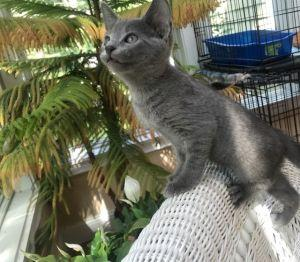rblue: (95, 1, 178, 84)
